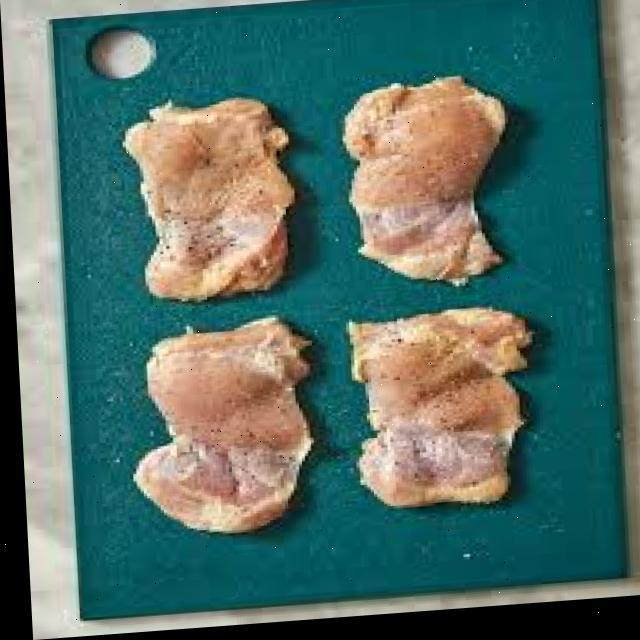thigh: (110, 324, 329, 576), (335, 313, 548, 555), (94, 96, 310, 328), (325, 66, 523, 309)
